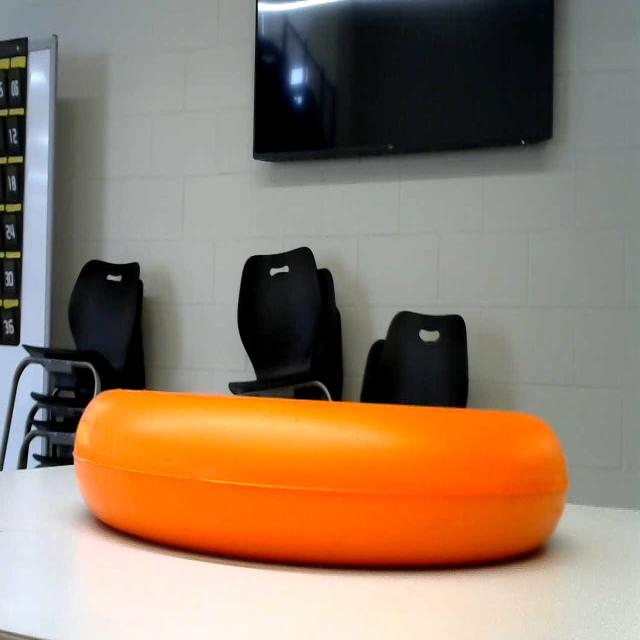note: (74, 374, 579, 573)
